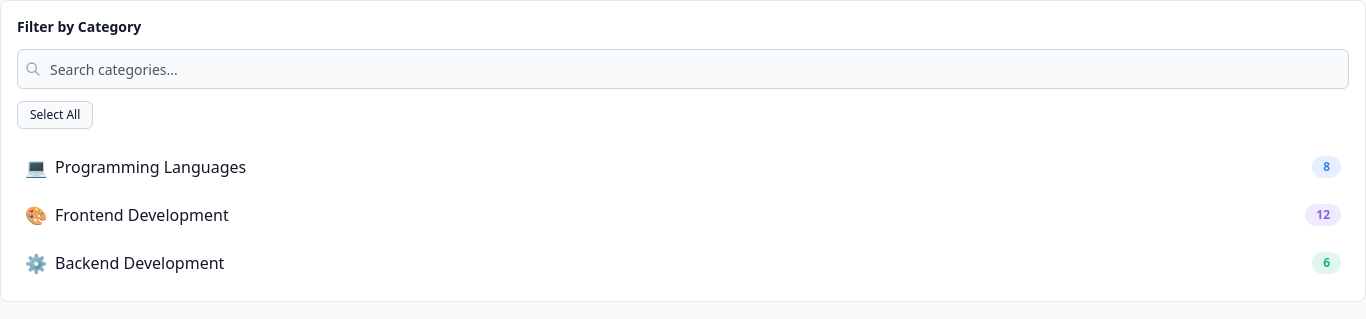
Scenario: CategoryFilter › filters categories by slug
The image size is (1366, 319).
Type "backend-development" into the field with placeholder "Search categories..." at [683, 69], box [17,49,1349,89]
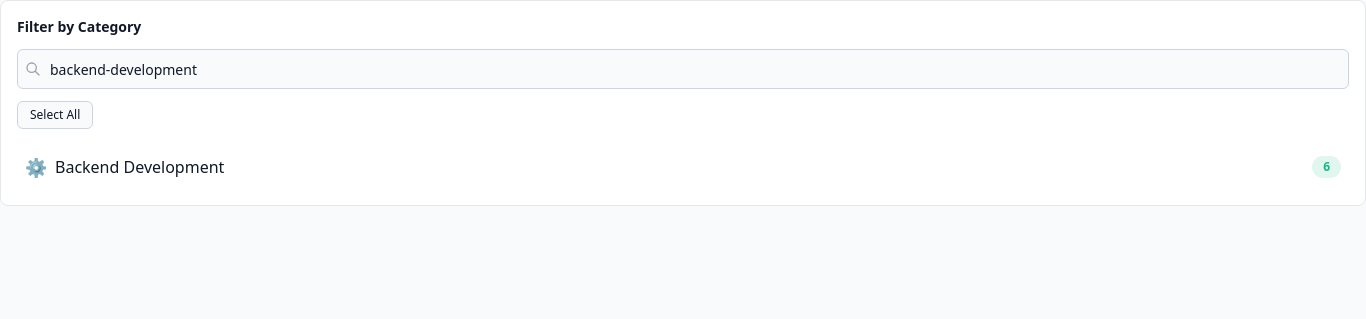
Expected: the text "Backend Development" is shown, [55,155,224,179]
Result: the button "Programming Languages" is gone
Result: the button "Frontend Development" is gone
